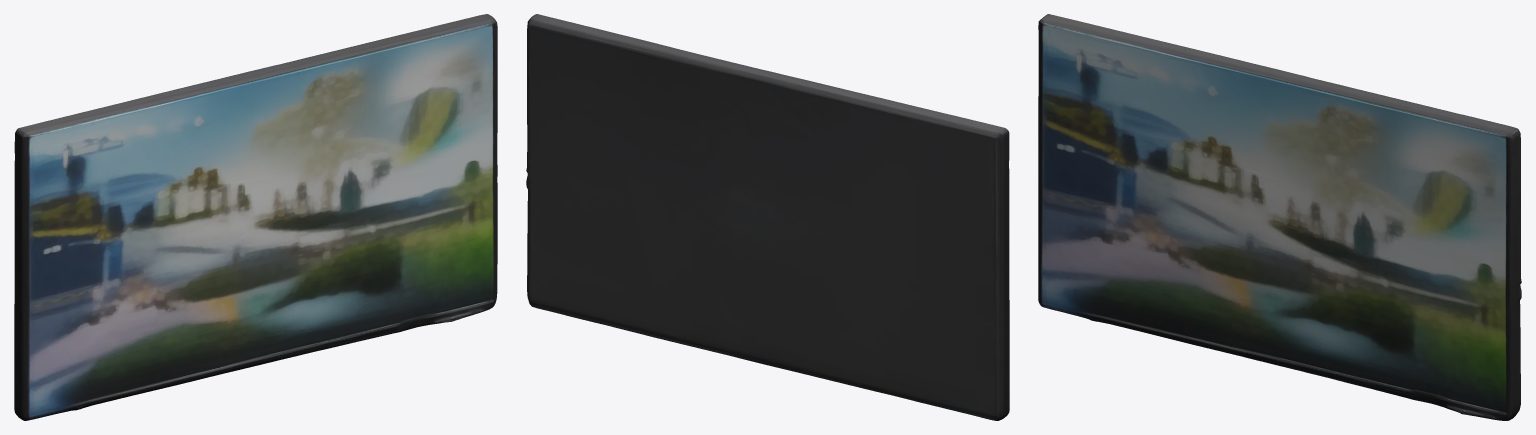
3 views of the same model, side by side, from view 1: azimuth 30°, elevation 25°; view 2: azimuth 150°, elevation 25°; view 3: azimuth 330°, elevation 25° (orthographic).
Visible parts, largest first — view 1: geometry_0; view 2: geometry_0; view 3: geometry_0.
Part boxes in pixels (bbox=[...]): geometry_0: bbox=[14, 14, 497, 420]; geometry_0: bbox=[526, 14, 1009, 420]; geometry_0: bbox=[1038, 14, 1521, 420].
Bounding box in the file's own units: 0.9994 × 0.5808 × 0.0462.
Materials: 1 (1 with a texture image).
